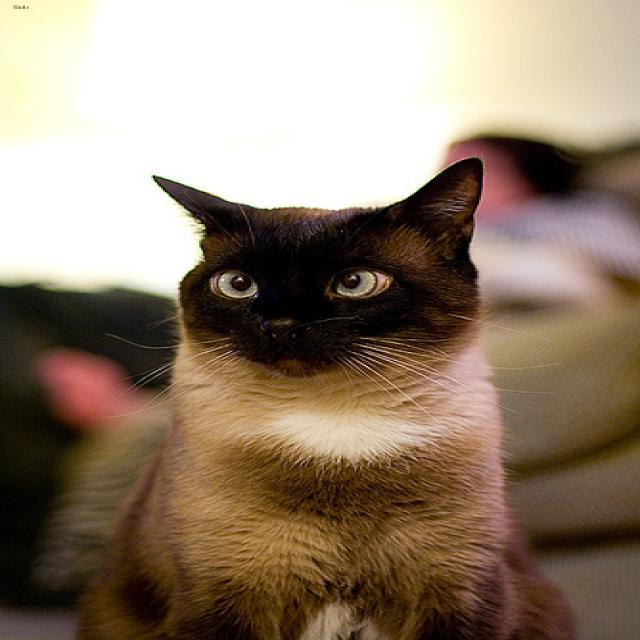Siamese: (151, 155, 479, 375)
